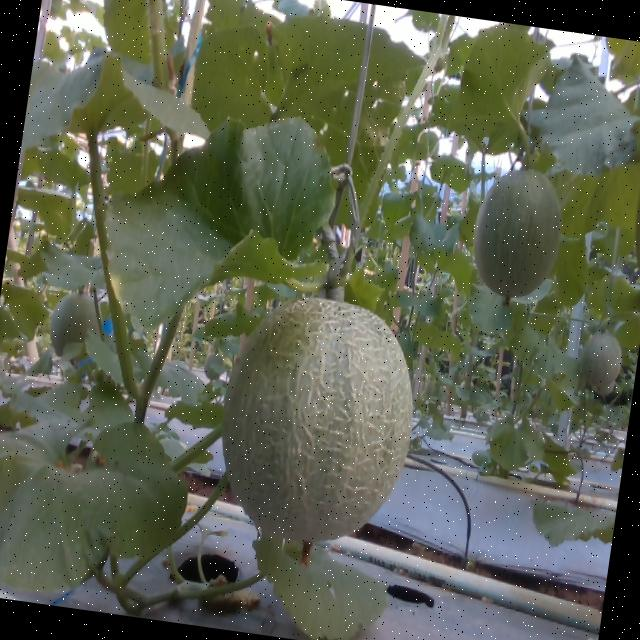melon: (223, 298, 413, 543)
